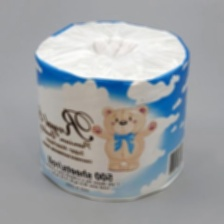tissue: (29, 13, 194, 205)
